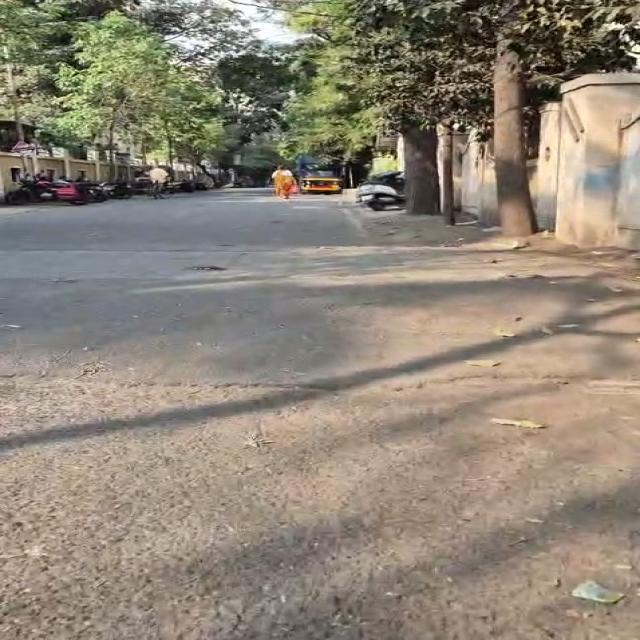obstacle: (351, 0, 630, 234), (51, 12, 171, 165)
person: (272, 166, 295, 198), (149, 167, 170, 198)
vehical: (357, 172, 405, 210), (6, 180, 56, 204), (101, 182, 133, 199)
